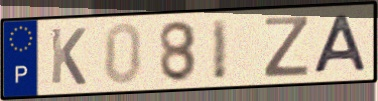0: (100, 21, 145, 87)
8: (156, 18, 198, 85)
A: (311, 13, 370, 76)
I: (209, 16, 230, 84)
K: (48, 26, 88, 87)
Z: (261, 14, 311, 79)
